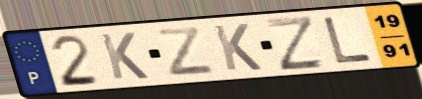2: (49, 33, 101, 88)
K: (97, 31, 152, 82), (210, 22, 265, 73)
L: (320, 16, 376, 66)
Z: (263, 13, 328, 73), (153, 25, 218, 78)
